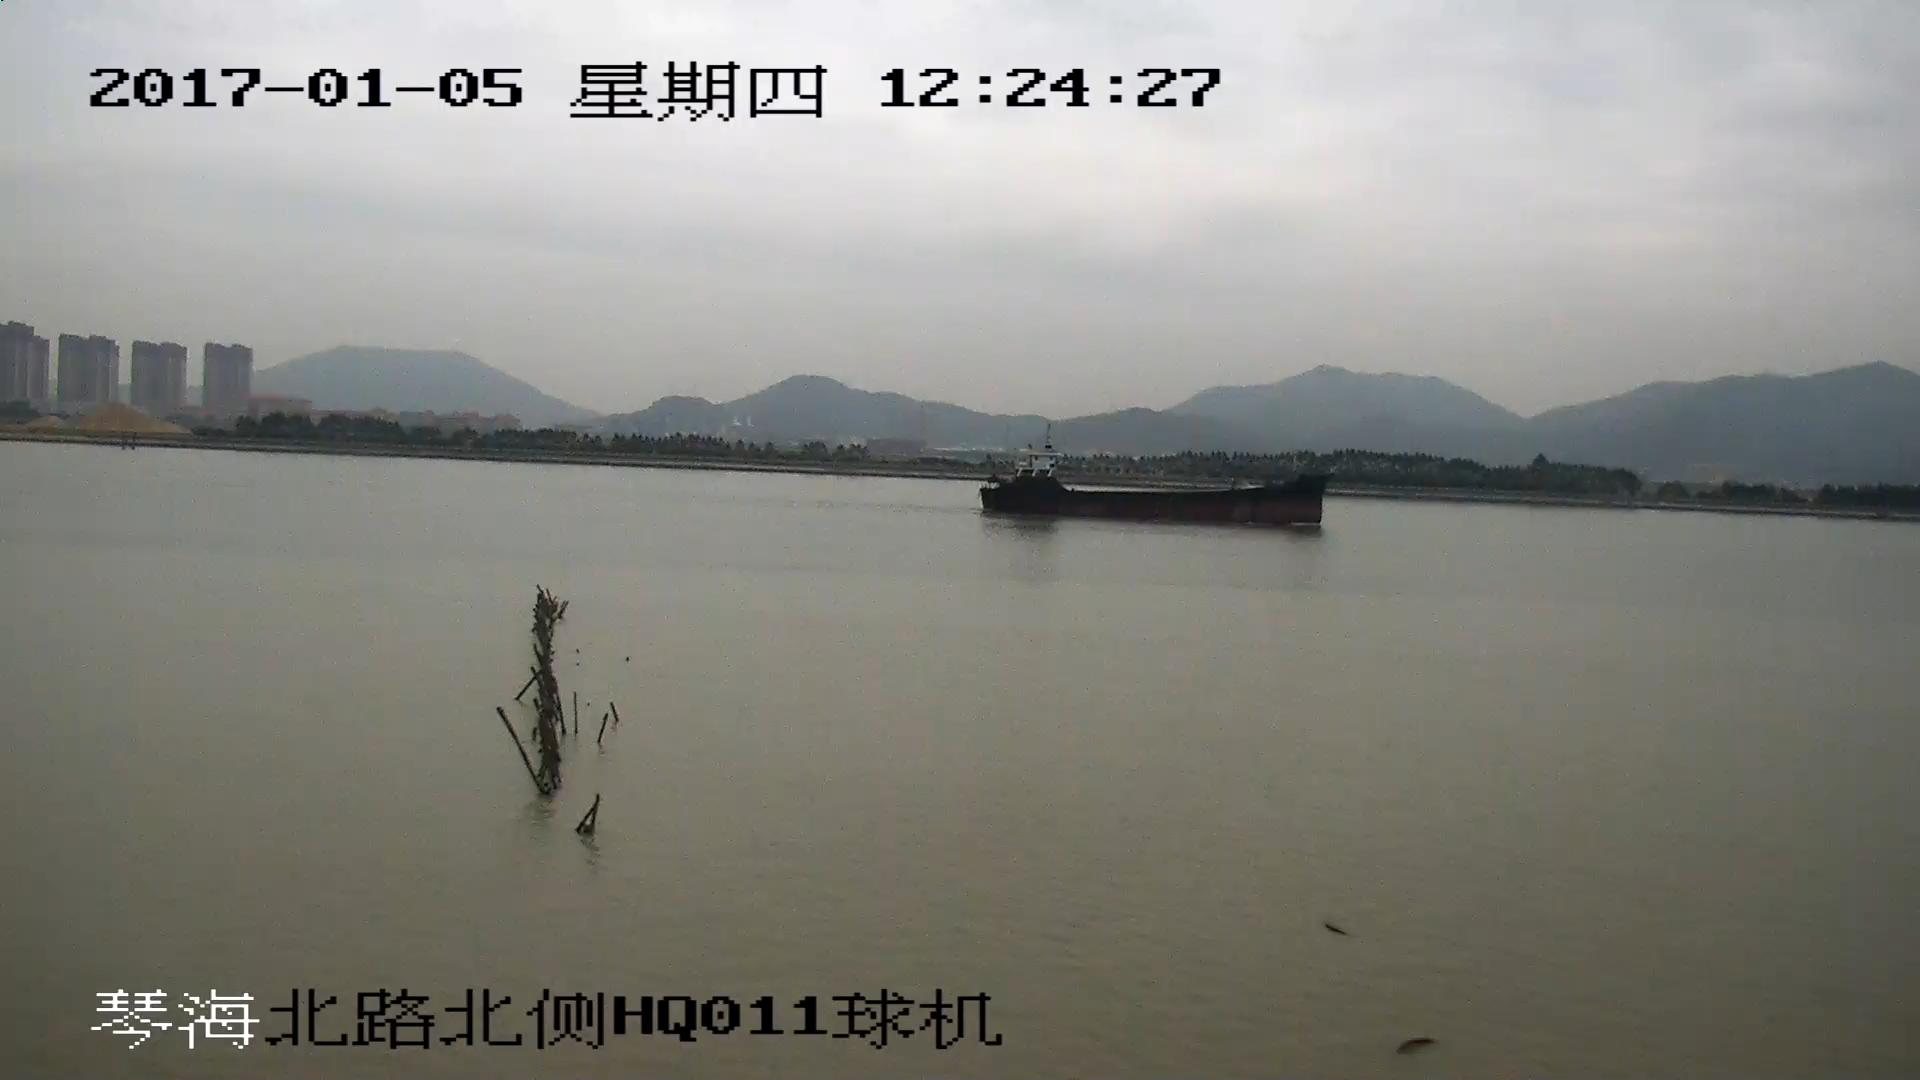general cargo ship: (980, 449, 1331, 526)
